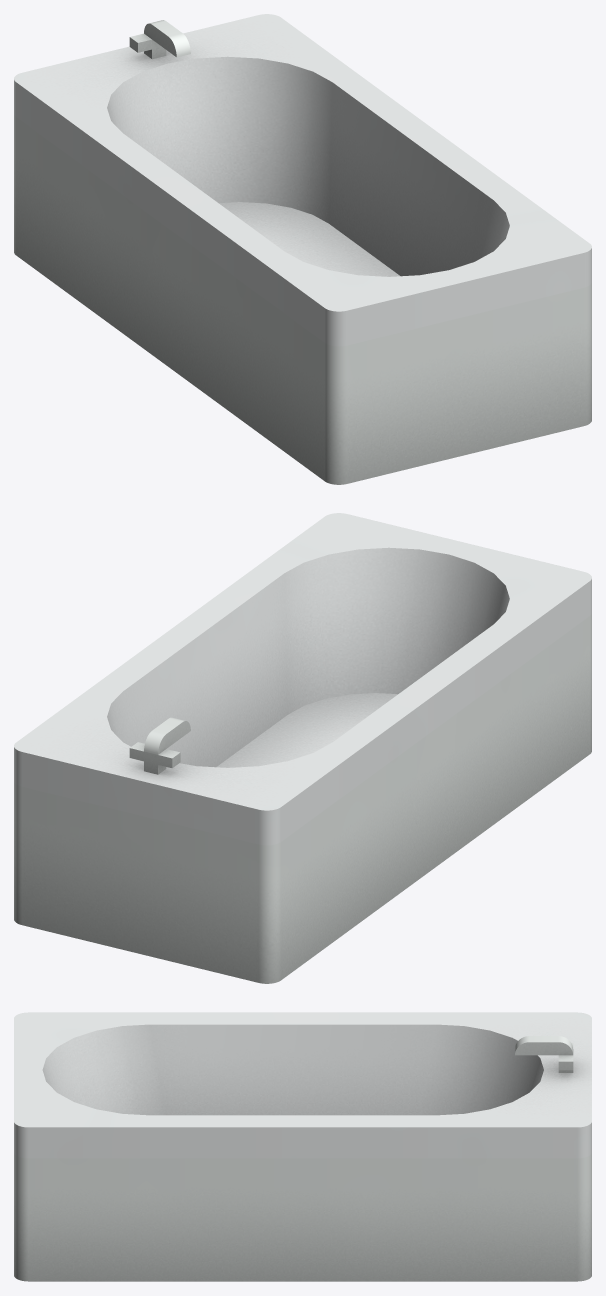
File: bathtub.glb
The picture shows the model from 3 angles, top to bottom: view 1: azimuth 30°, elevation 25°; view 2: azimuth 150°, elevation 25°; view 3: azimuth 270°, elevation 25°; orthographic projection. The views are drawn at different scales.
Parts seen in each view (by area): view 1: bathtub; view 2: bathtub; view 3: bathtub.
Part boxes in pixels (x1=…): bathtub: x1=14, y1=14, x2=591, y2=484; bathtub: x1=14, y1=513, x2=591, y2=983; bathtub: x1=14, y1=1012, x2=591, y2=1281.
Bounding box in the file's own units: 0.9129 × 0.6847 × 1.94.
Materials: 3 (3 with a texture image).
